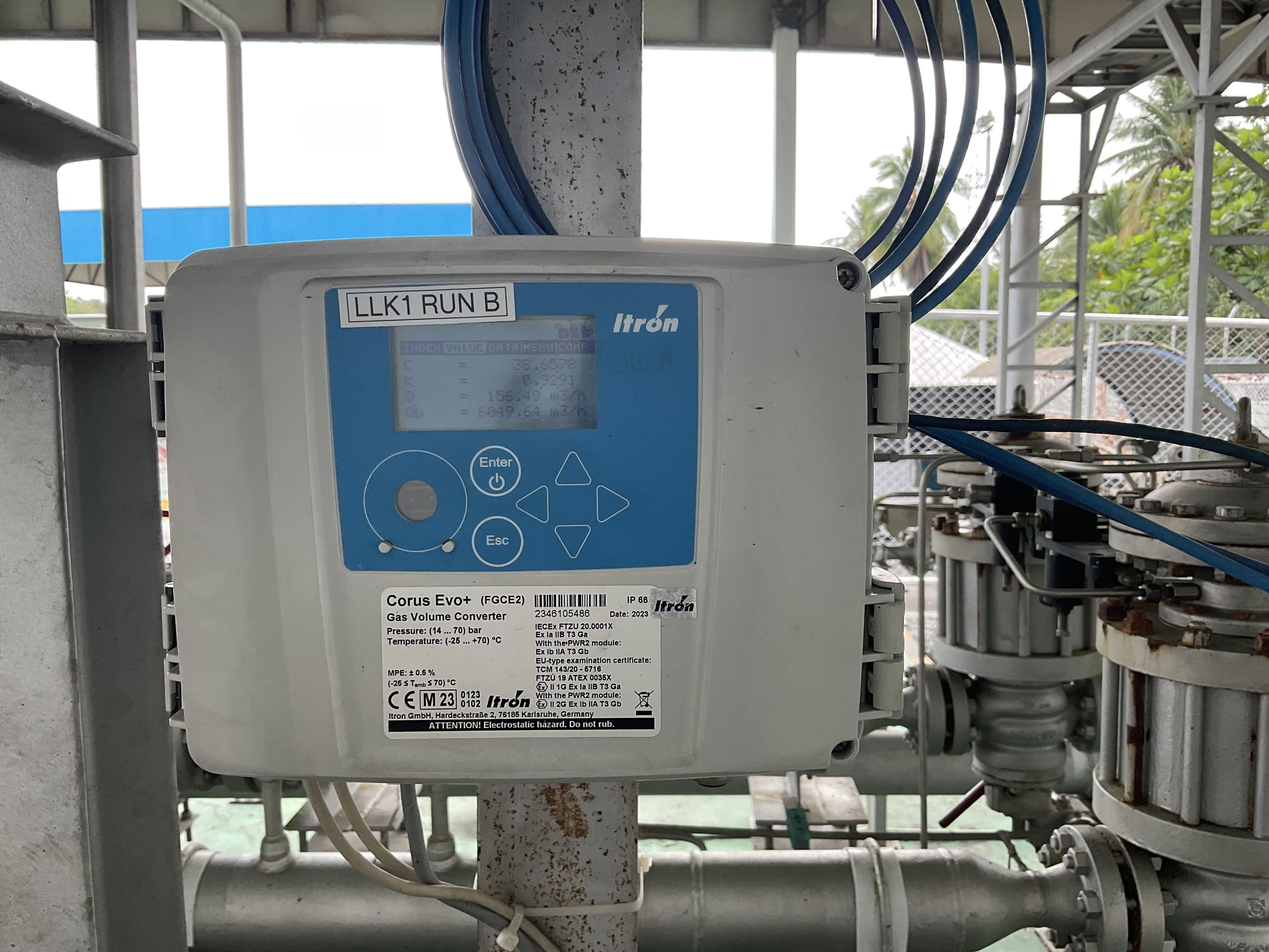digital_screen: (390, 315, 597, 432)
